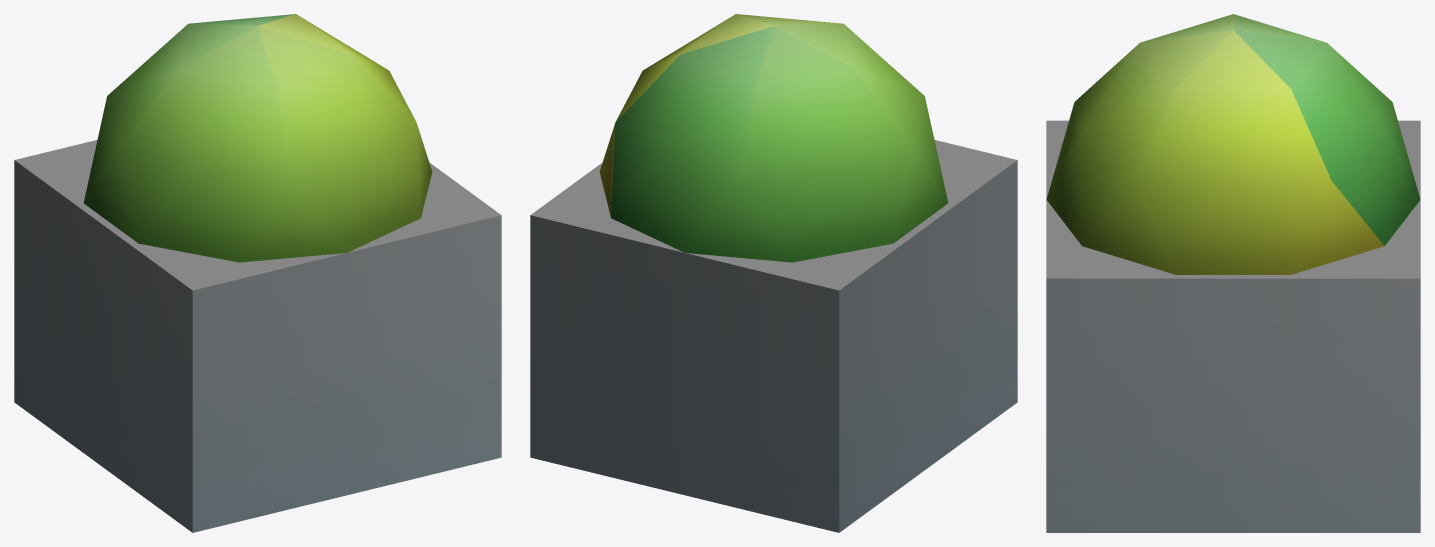
File: RB_T04_Planter_02.fbx
The picture shows the model from 3 angles, left to right: view 1: azimuth 30°, elevation 25°; view 2: azimuth 150°, elevation 25°; view 3: azimuth 270°, elevation 25°; orthographic projection. The views are drawn at different scales.
Parts seen in each view (by area): view 1: RB_T04_Planter_02; view 2: RB_T04_Planter_02; view 3: RB_T04_Planter_02.
Part boxes in pixels (x1=…): RB_T04_Planter_02: x1=14, y1=14, x2=501, y2=532; RB_T04_Planter_02: x1=530, y1=14, x2=1017, y2=532; RB_T04_Planter_02: x1=1046, y1=14, x2=1420, y2=532.
Bounding box in the file's own units: 0.2338 × 0.2922 × 0.2338.
